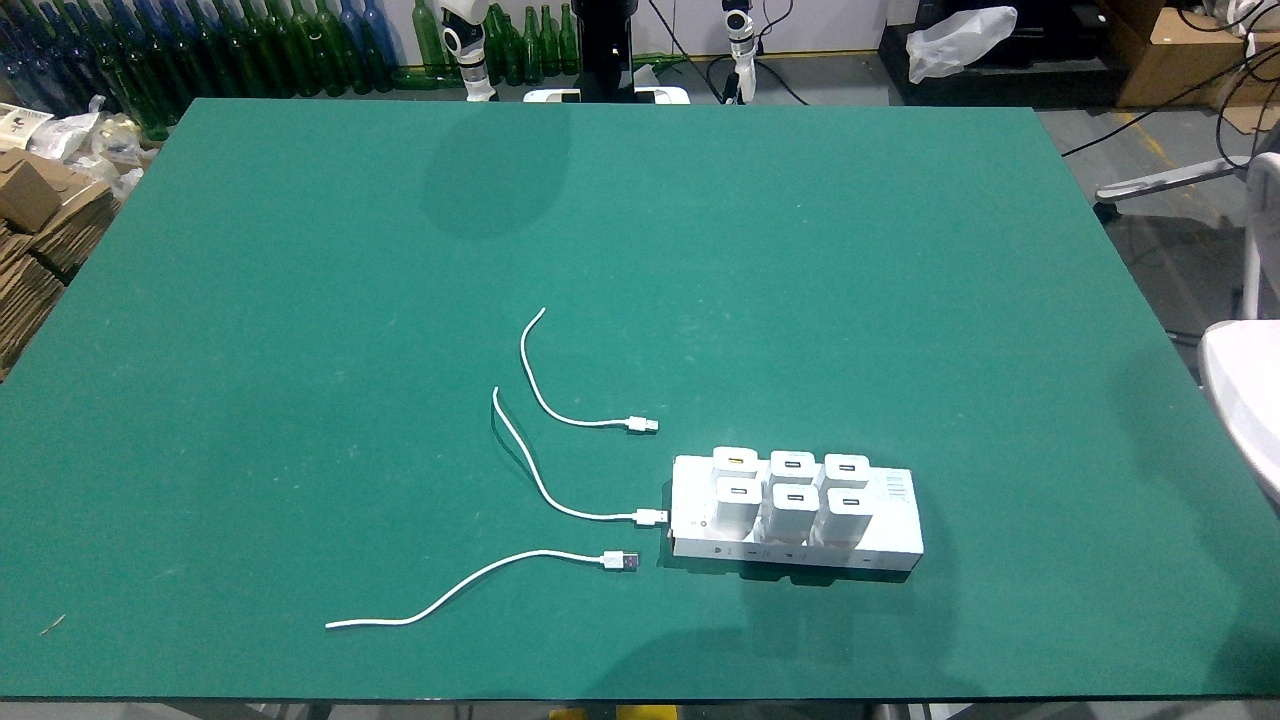usb_a_plug: (591, 550, 639, 570), (614, 414, 659, 433), (622, 508, 670, 525)
